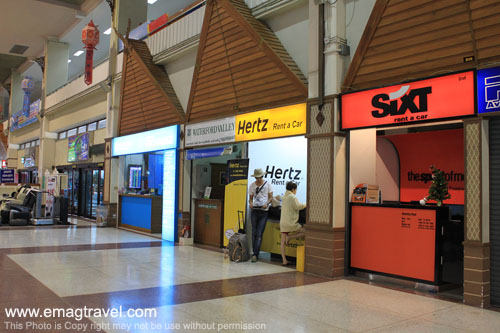luggage: (227, 205, 250, 263)
people: (281, 179, 303, 266), (248, 167, 267, 264)
